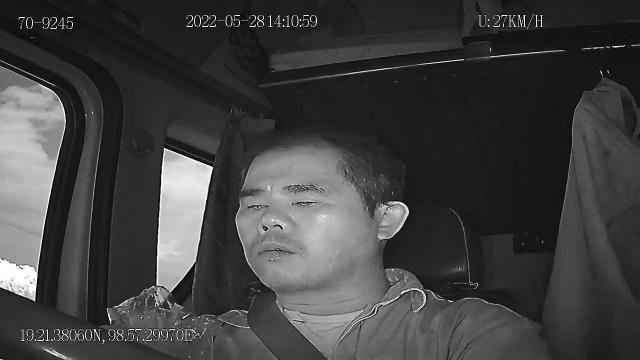SafeDriving: (282, 186, 330, 214), (236, 192, 272, 218)
Seatbelt: (250, 296, 326, 360)
